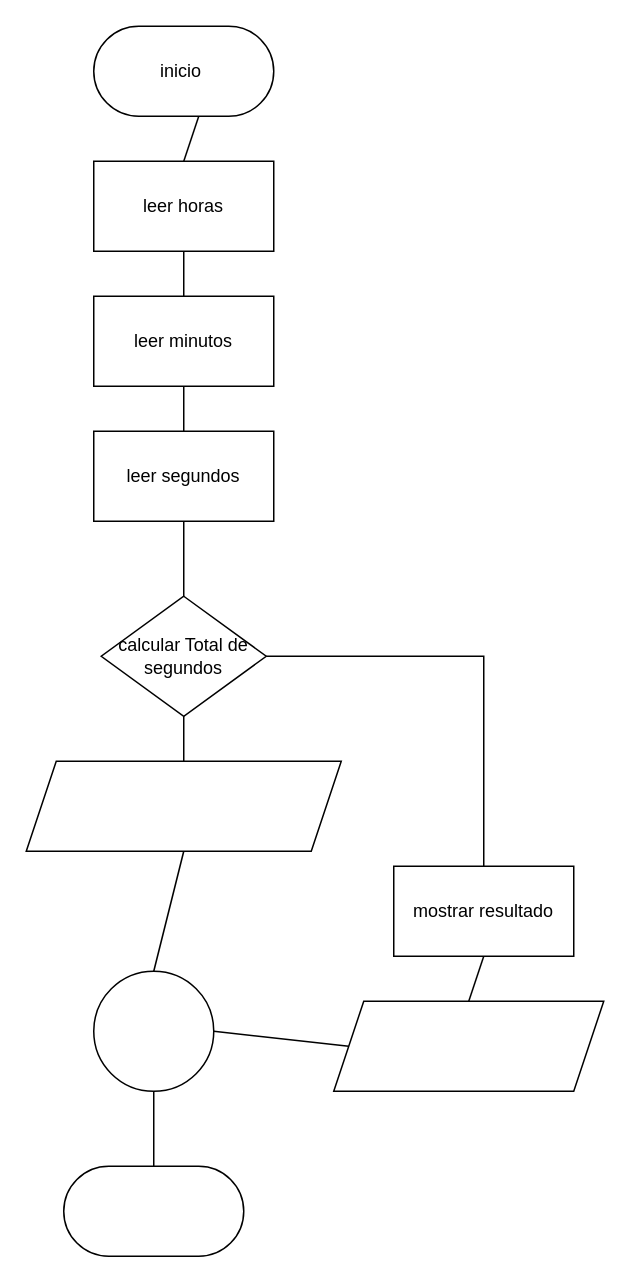
Some shapes in this 630 by 1283 pixel diagram are drawn without their labels. The centre of each missing label's shape, as x and y in pixels:
fin: [153,1210]
mostrar " han transcurrido" , totalsegundos " segundos desde la medianoche": [468,1045]
totalsegundos = horas * 3600 + minutos * 60 + segundos: [183,805]
